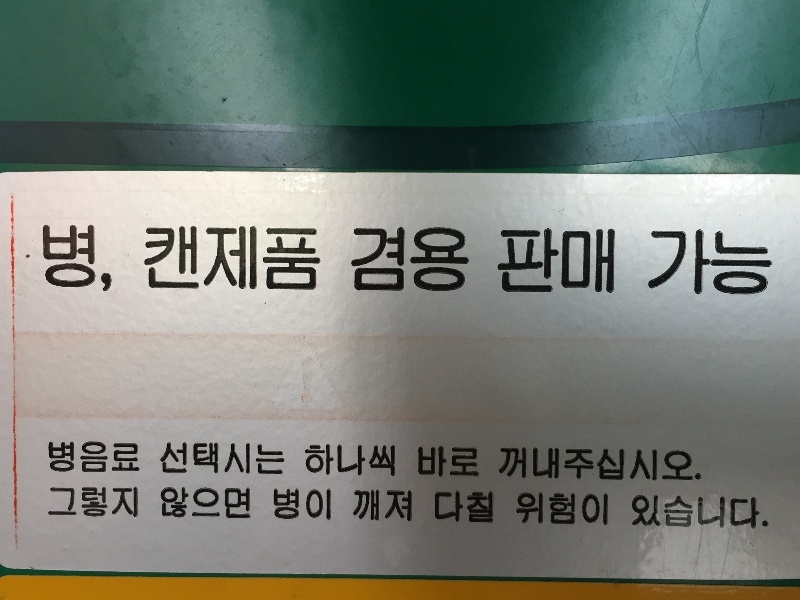text: (49, 223, 64, 293), (65, 223, 80, 293), (81, 223, 96, 293), (97, 223, 112, 293), (113, 223, 128, 293), (129, 223, 144, 293), (145, 223, 160, 293), (161, 223, 176, 293), (177, 223, 192, 293), (193, 223, 208, 293), (209, 223, 224, 293), (225, 223, 240, 293), (241, 223, 256, 293), (257, 223, 272, 293), (273, 223, 288, 293), (289, 223, 304, 293), (305, 223, 320, 293), (657, 230, 672, 298), (673, 230, 688, 298), (689, 230, 704, 298), (705, 230, 720, 298), (721, 230, 736, 298), (737, 230, 752, 298), (753, 230, 768, 298), (497, 229, 512, 296), (513, 229, 528, 296), (529, 229, 544, 296), (545, 229, 560, 296), (561, 229, 576, 296), (577, 229, 592, 296), (593, 229, 608, 296), (353, 228, 368, 293), (369, 228, 384, 293), (385, 228, 400, 293), (401, 228, 416, 293), (417, 228, 432, 293), (433, 228, 448, 293), (449, 228, 464, 293), (305, 444, 320, 479), (321, 444, 336, 479), (337, 444, 352, 479), (353, 444, 368, 479), (369, 444, 384, 479), (513, 448, 528, 483), (529, 448, 544, 483), (545, 448, 560, 483), (561, 448, 576, 483), (577, 448, 592, 483), (593, 448, 608, 483), (609, 448, 624, 483), (625, 448, 640, 483), (641, 448, 656, 483), (657, 448, 672, 483), (673, 448, 688, 483), (161, 443, 176, 477), (177, 443, 192, 477), (193, 443, 208, 477), (209, 443, 224, 477), (225, 443, 240, 477), (241, 443, 256, 477), (257, 443, 272, 477), (161, 487, 176, 521), (177, 487, 192, 521), (193, 487, 208, 521), (209, 487, 224, 521), (225, 487, 240, 521), (273, 489, 288, 523), (289, 489, 304, 523), (305, 489, 320, 523), (353, 491, 368, 525), (369, 491, 384, 525), (385, 491, 400, 525), (529, 493, 544, 527), (545, 493, 560, 527), (561, 493, 576, 527), (577, 493, 592, 527), (593, 493, 608, 527), (49, 442, 64, 475), (65, 442, 80, 475), (81, 442, 96, 475), (97, 442, 112, 475), (113, 442, 128, 475), (49, 487, 64, 520), (65, 487, 80, 520), (81, 487, 96, 520), (97, 487, 112, 520), (113, 487, 128, 520), (641, 497, 656, 530), (657, 497, 672, 530), (673, 497, 688, 530), (689, 497, 704, 530), (705, 497, 720, 530), (721, 497, 736, 530), (737, 497, 752, 530), (753, 497, 768, 530), (449, 492, 464, 524), (465, 492, 480, 524), (609, 229, 616, 296), (499, 448, 512, 483), (689, 448, 702, 483), (434, 492, 448, 524), (481, 492, 495, 524), (273, 443, 286, 477), (515, 493, 528, 527), (433, 449, 448, 478), (449, 449, 464, 478), (465, 449, 480, 478), (42, 223, 48, 293), (385, 444, 397, 479), (650, 230, 656, 298), (418, 449, 432, 478), (129, 442, 141, 475), (321, 489, 332, 523), (401, 491, 412, 525), (769, 230, 774, 298), (241, 487, 251, 521), (129, 487, 139, 520), (465, 228, 470, 293), (632, 497, 640, 530), (321, 223, 322, 293), (609, 493, 610, 527), (769, 497, 770, 530)
